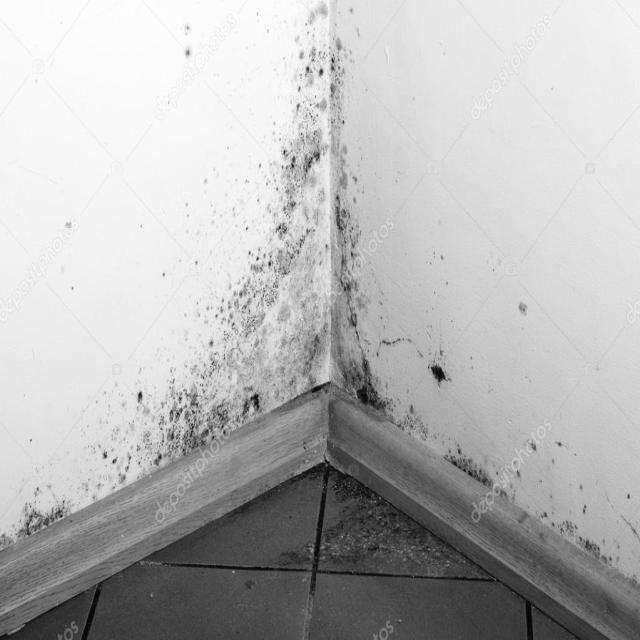stain marks: (212, 1, 409, 424), (0, 200, 209, 562), (413, 333, 640, 591), (160, 4, 198, 82), (503, 288, 545, 326)
